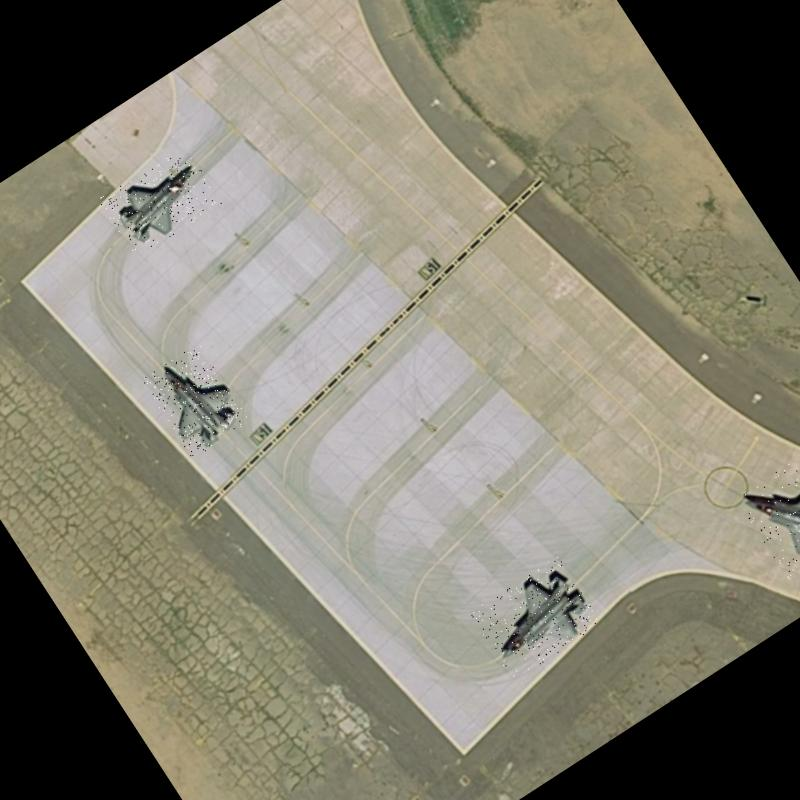A15: (469, 555, 603, 682), (98, 143, 223, 259), (141, 342, 251, 459), (735, 448, 800, 583)
